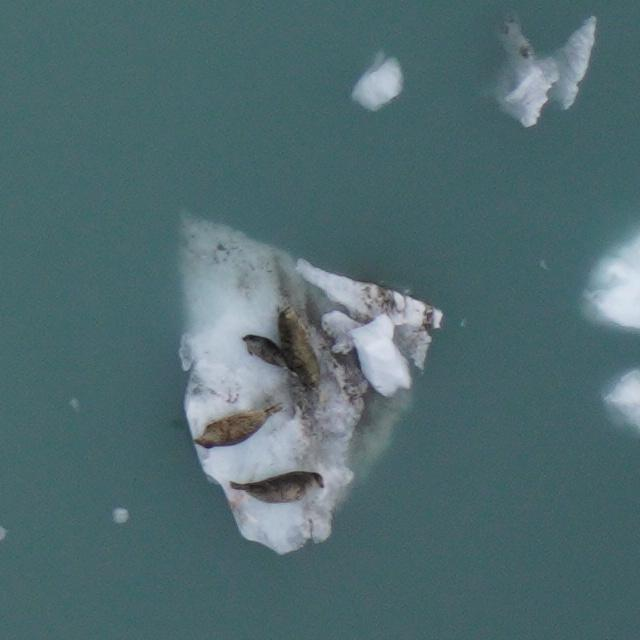seal: (189, 399, 287, 454), (274, 300, 325, 398), (225, 468, 328, 509), (239, 331, 303, 379)
